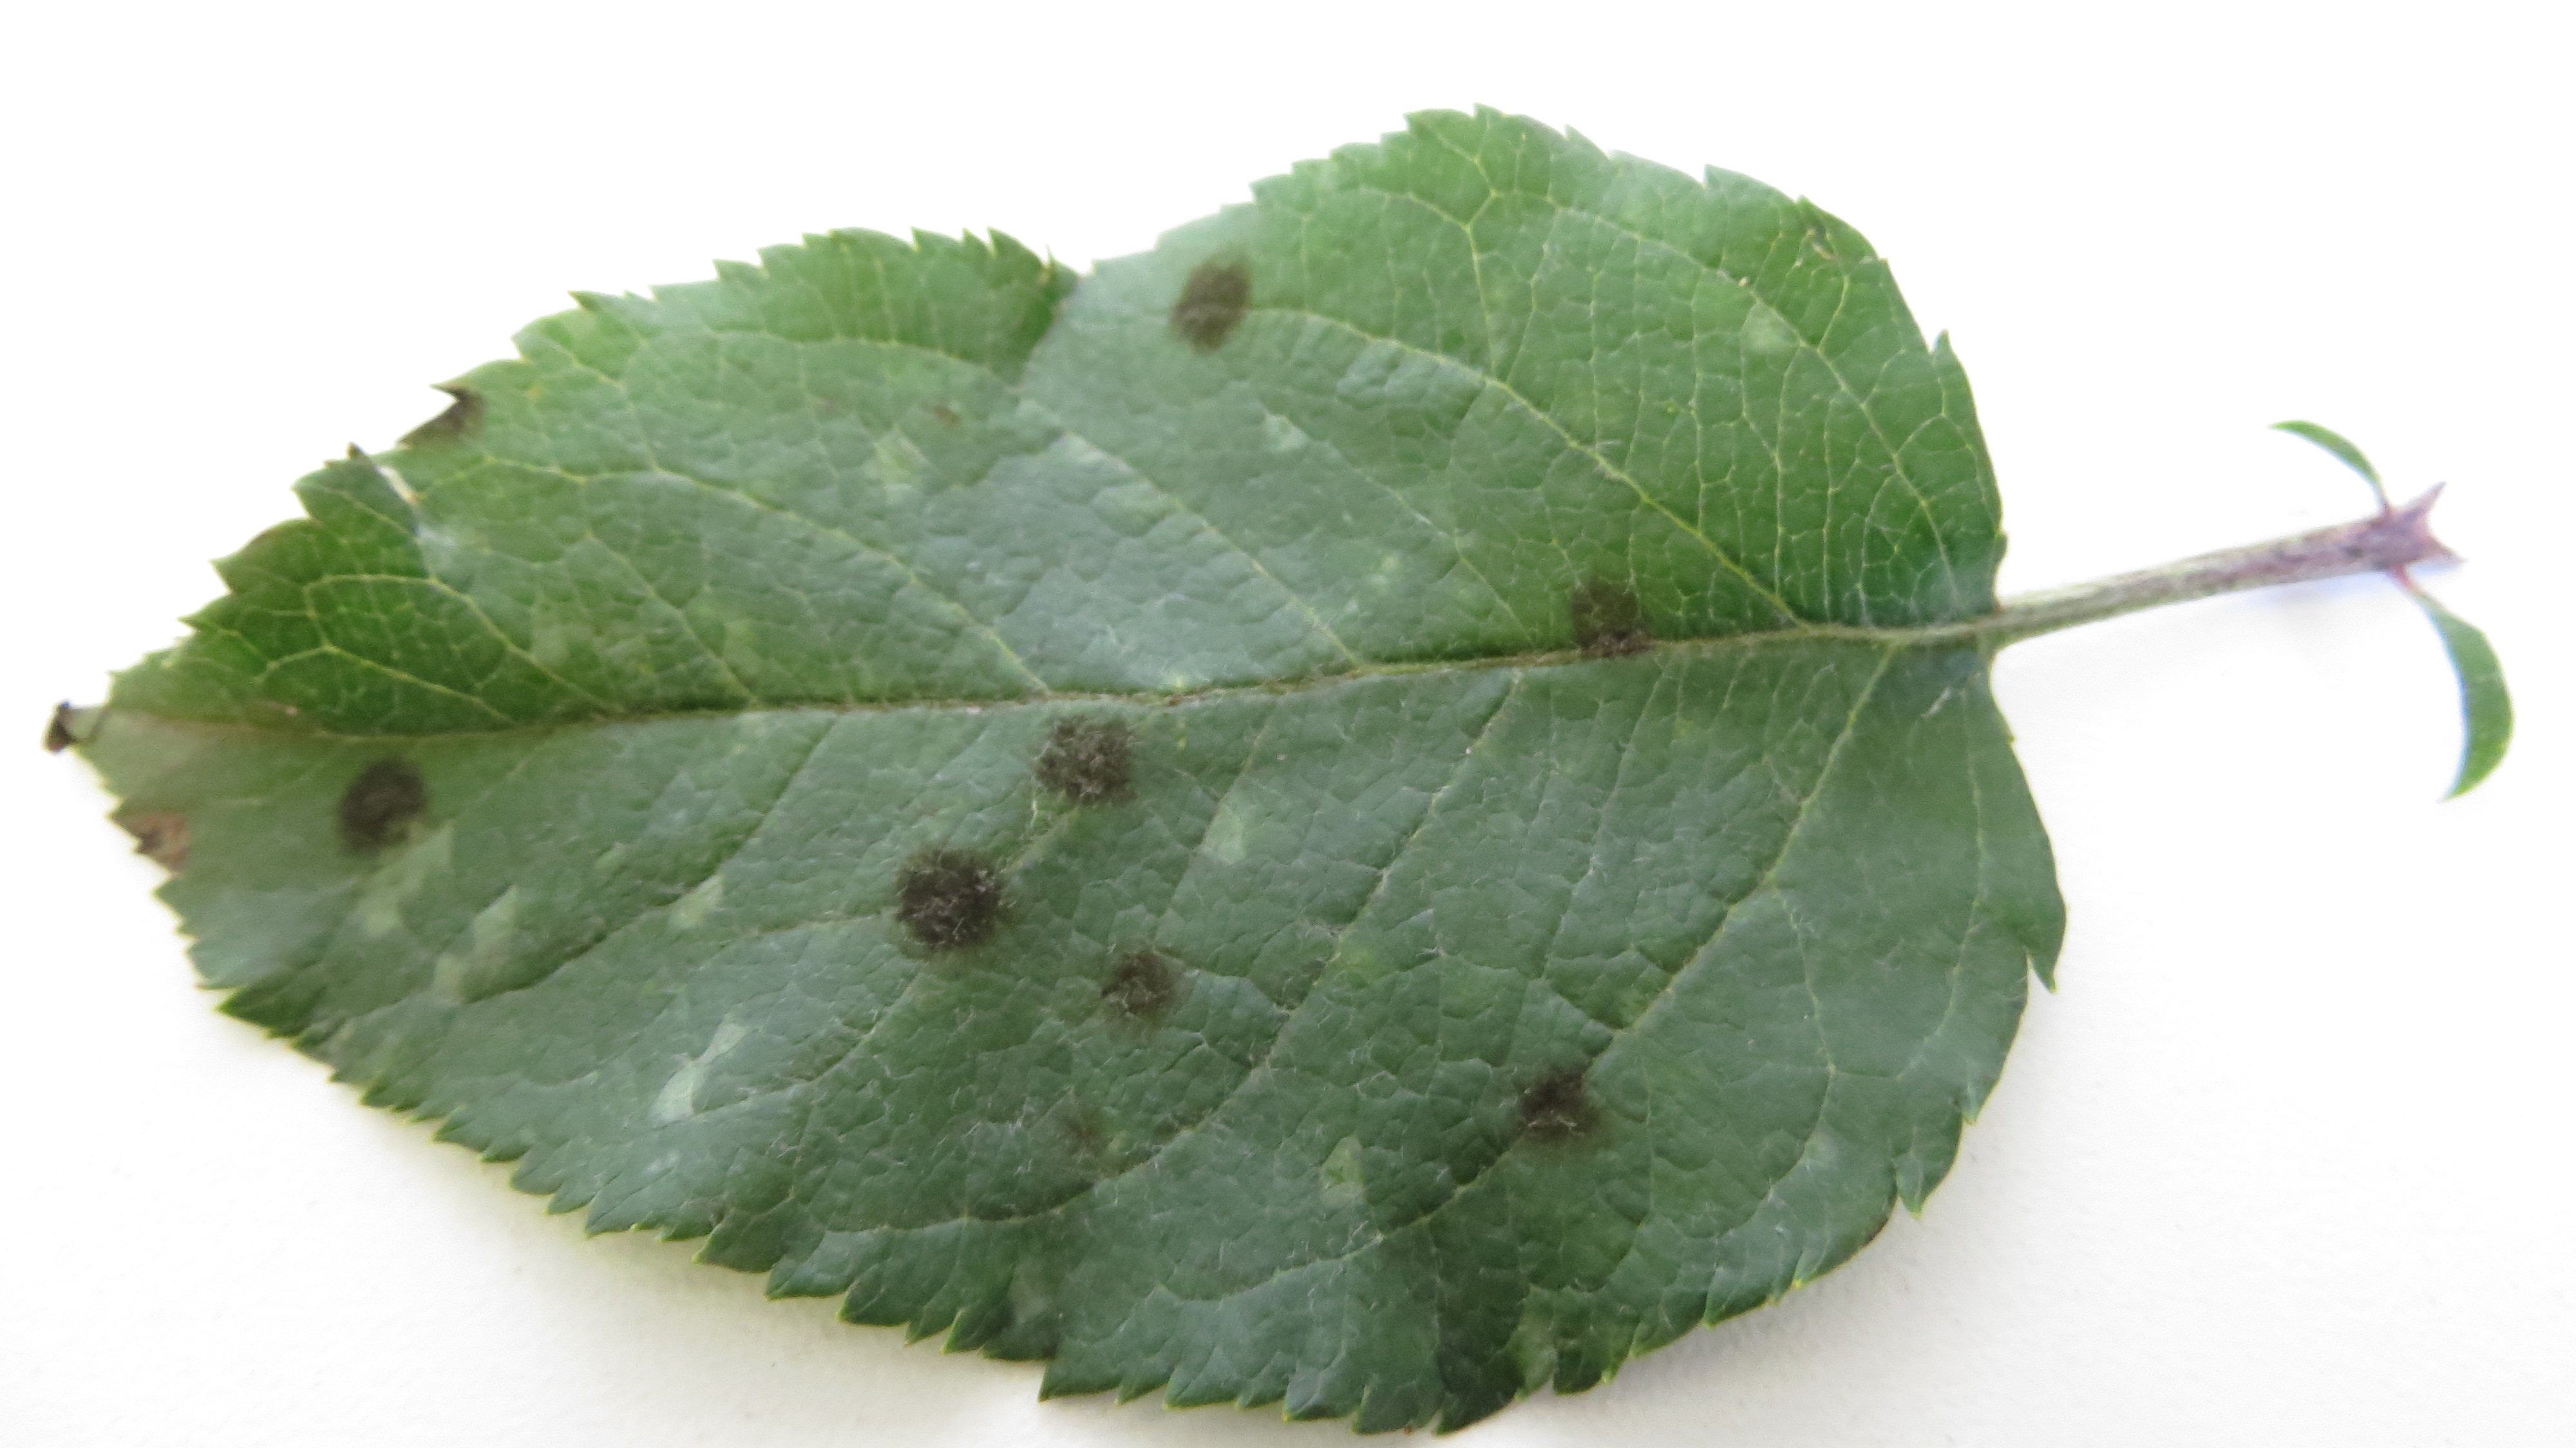sarna: (870, 836, 1017, 954), (1017, 701, 1154, 821), (1141, 253, 1260, 366), (322, 751, 442, 862), (1039, 1090, 1166, 1193), (1541, 556, 1652, 673), (152, 690, 299, 775), (1499, 1051, 1614, 1156), (1083, 935, 1187, 1046), (117, 802, 212, 899)
